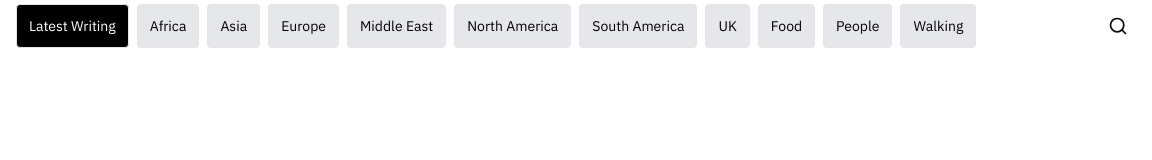
Test: FilterBar › supports Escape to close search mode and restores focus
Click the button named "search posts" at (1118, 26), box [1100,8,1136,44]
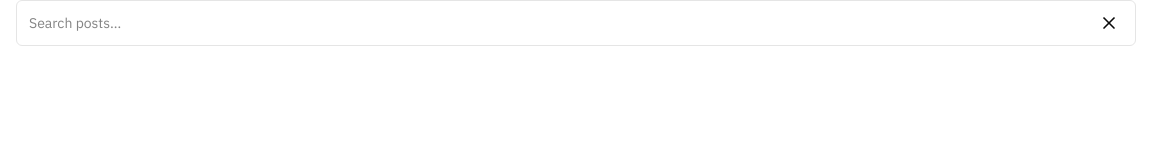
Press Escape in the field labelled "Search posts…", box [29,13,1087,33]
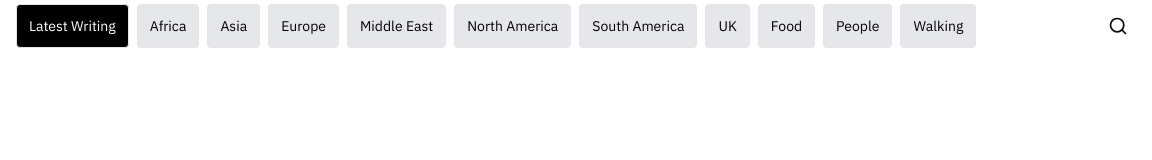
Check: the field labelled "search posts" is not shown
Check: the button named "search posts" is shown, box [1100,8,1136,44]
